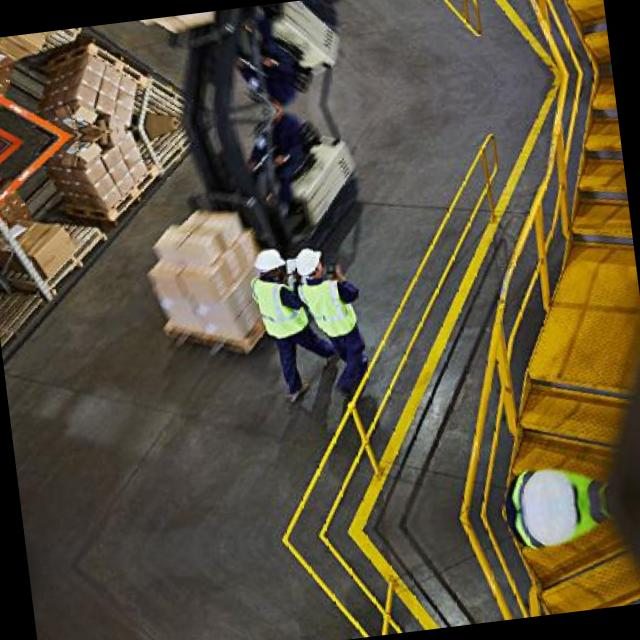helmet: (250, 243, 286, 279), (293, 246, 321, 278)
